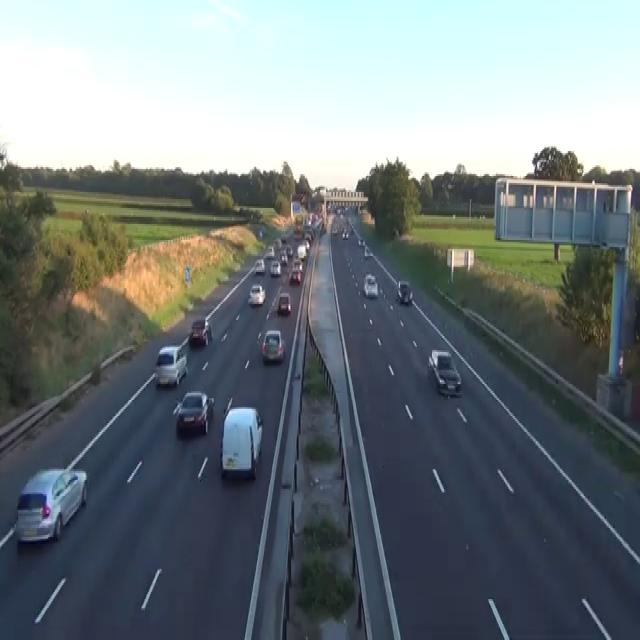Car: (15, 466, 87, 544), (219, 402, 263, 480), (172, 390, 214, 436), (427, 348, 461, 394), (154, 345, 187, 386), (261, 329, 284, 363), (188, 316, 212, 345), (247, 282, 265, 306), (396, 279, 412, 304), (363, 272, 378, 297), (277, 292, 291, 314), (289, 266, 301, 284), (269, 260, 281, 276), (254, 258, 265, 274), (263, 246, 274, 260), (297, 243, 306, 260), (279, 249, 288, 265), (292, 258, 302, 270), (364, 245, 373, 258), (293, 226, 302, 238), (331, 222, 339, 235), (304, 231, 312, 244), (285, 244, 293, 256), (274, 236, 281, 249), (358, 237, 365, 247), (304, 238, 310, 249), (342, 228, 348, 238), (364, 245, 369, 256), (446, 182, 454, 188), (281, 234, 286, 243), (358, 237, 362, 246), (259, 230, 262, 238)
